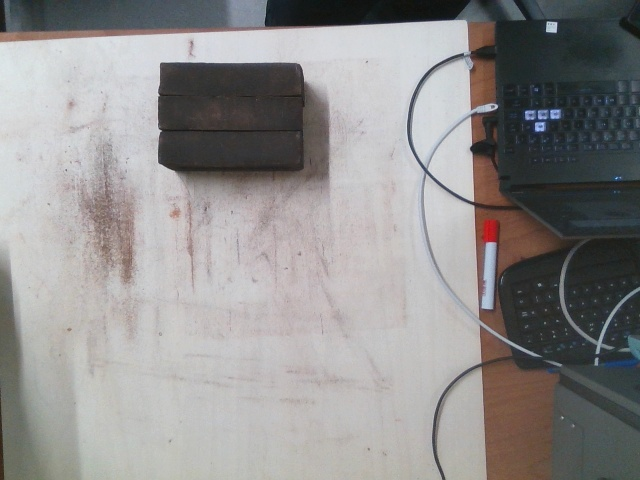brick-side: (162, 62, 297, 95), (164, 131, 299, 164), (162, 97, 298, 129)
